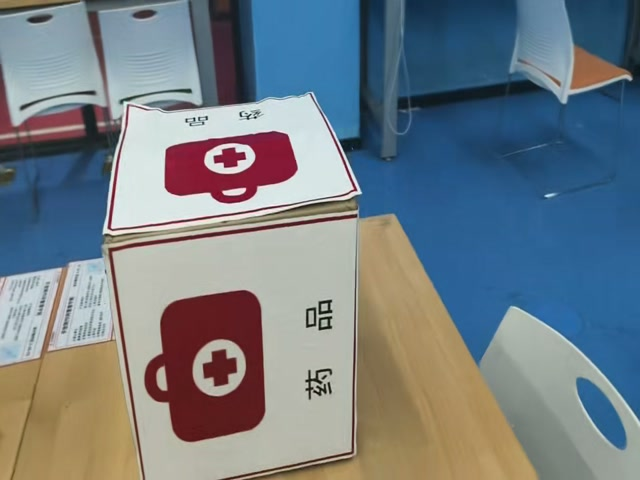Cube_medicine: (109, 98, 369, 243)
